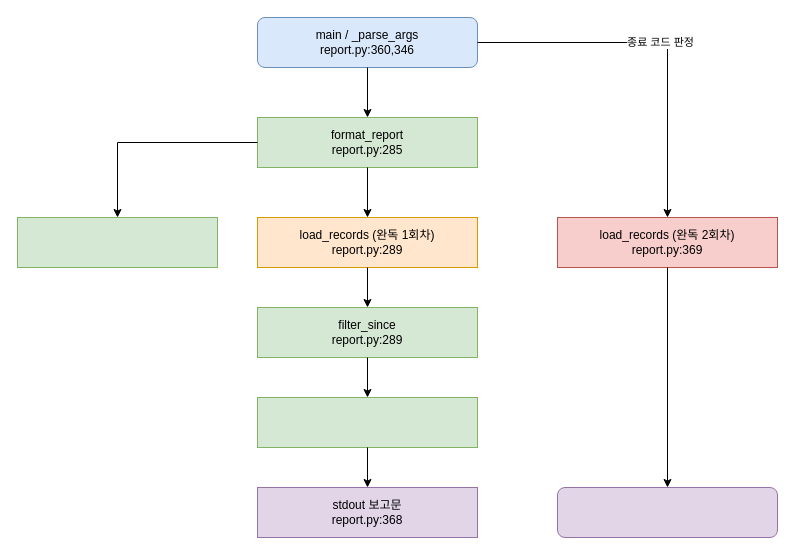
This 795x555 diagram has some shape labels left out. The box of each missing label's shape, as (x1, y1, x2, y2) in pixels:
exit 0 / 1: (556, 486, 778, 538)
gap_stats · level_counts finding_counts · resource_ranges: (256, 396, 478, 448)
load_files report.py:288: (16, 216, 218, 268)
